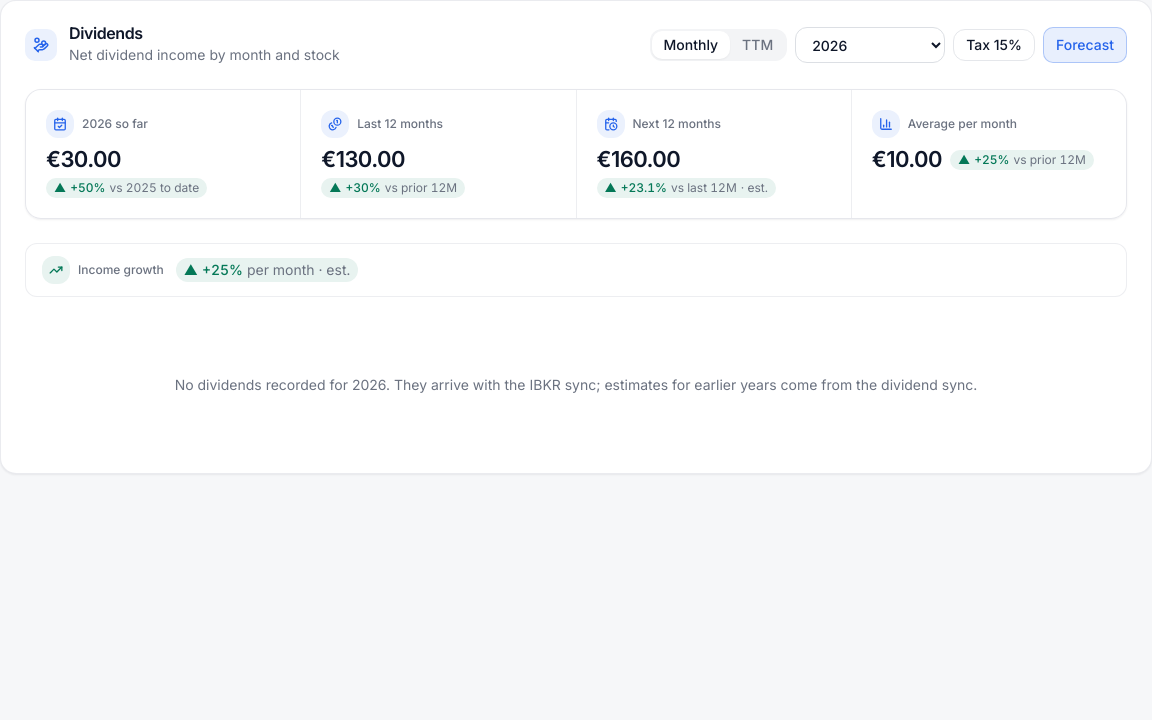
Dividend chart controls › still displays trailing income when the selected range received no payments
Expected: the text "No dividends recorded" is shown, [175, 376, 330, 392]
Click the button "TTM".
click(758, 45)  # box [730, 31, 785, 59]
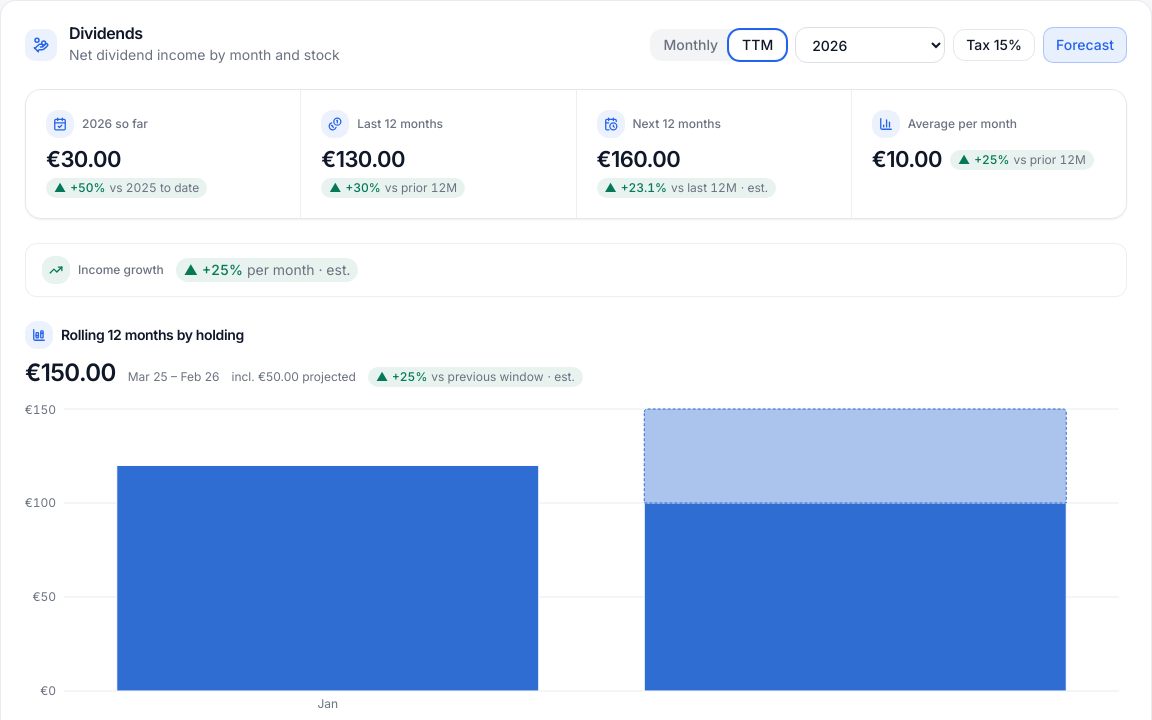
Expected: the element named "Latest rolling 12 months" shows "150.00", [25, 358, 116, 386]
